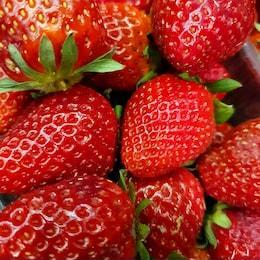Fresa: (1, 79, 121, 199), (1, 172, 143, 260), (116, 65, 223, 179), (1, 1, 111, 94)
